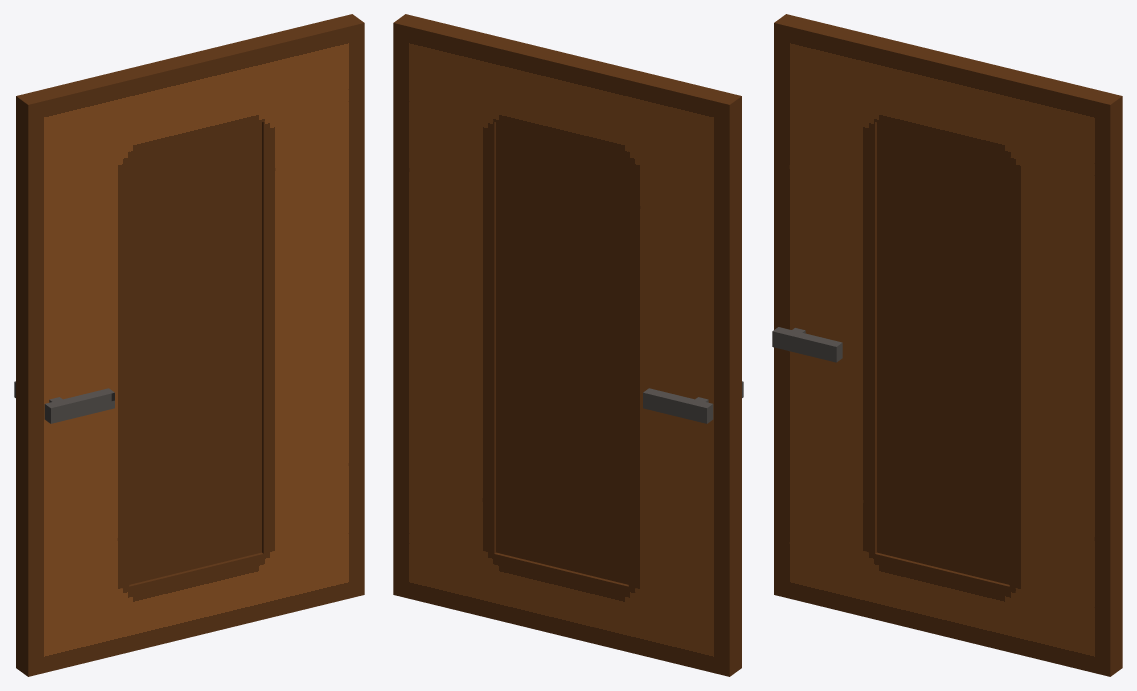
Rendered from door.glb.
The picture shows the model from 3 angles, left to right: view 1: azimuth 30°, elevation 25°; view 2: azimuth 150°, elevation 25°; view 3: azimuth 330°, elevation 25°; orthographic projection.
Visible parts, largest first — view 1: mesh, group; view 2: mesh, group; view 3: mesh, group.
Part boxes in pixels (left/top/right/bottom): mesh: left=16, top=14, right=364, bottom=676; group: left=14, top=381, right=114, bottom=423; mesh: left=393, top=14, right=741, bottom=676; group: left=643, top=381, right=743, bottom=423; mesh: left=774, top=14, right=1122, bottom=676; group: left=772, top=327, right=842, bottom=362.
Size of the model in its own units: 1 by 1.62 by 0.1875.
Materials: 1 (1 with a texture image).
